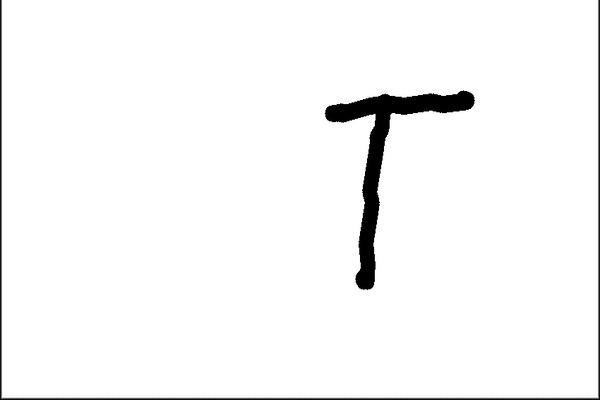T: (327, 84, 476, 290)
